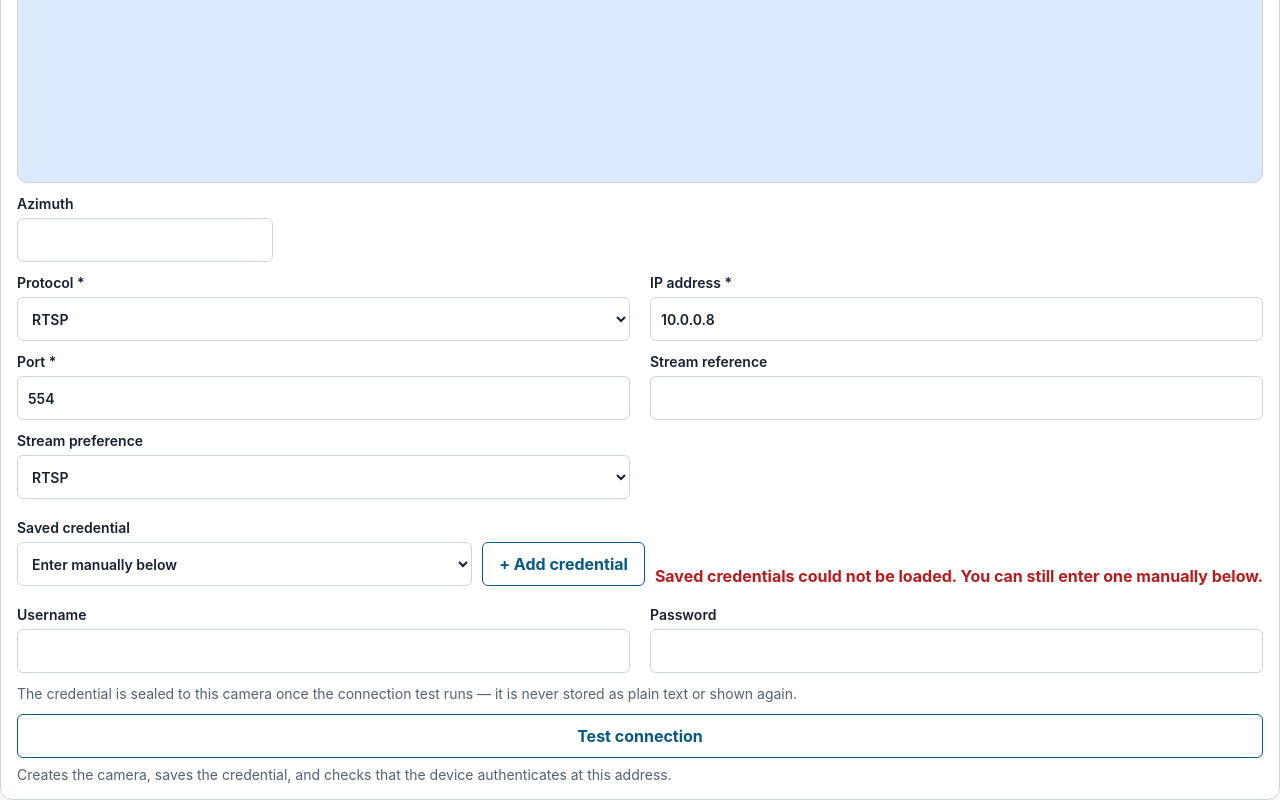
CameraForm › warns but allows the operator to proceed when the credential cannot be verified
This screenshot has width=1280, height=800.
(page scrolled)
Click the button "Test connection" at (640, 736), box [17,714,1263,758]
(page scrolled)
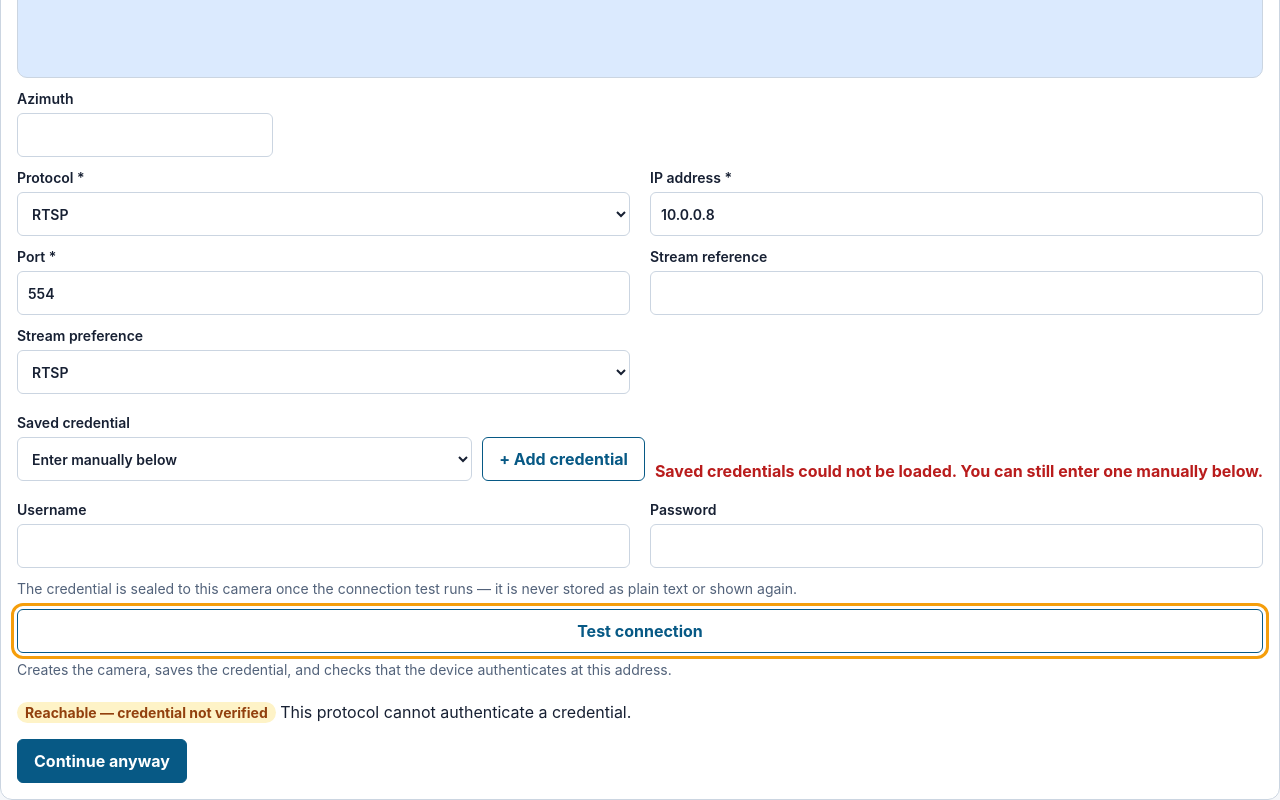
Expected: the field labelled "manufacturer" is not shown
Result: the text "Reachable — credential not verified" is shown at [17,702,276,723]
Result: the text "this protocol cannot authenticate a credential" is shown at [280,702,631,722]
Click the button "Continue anyway" at (102, 761), box [17,739,187,783]
(page scrolled)
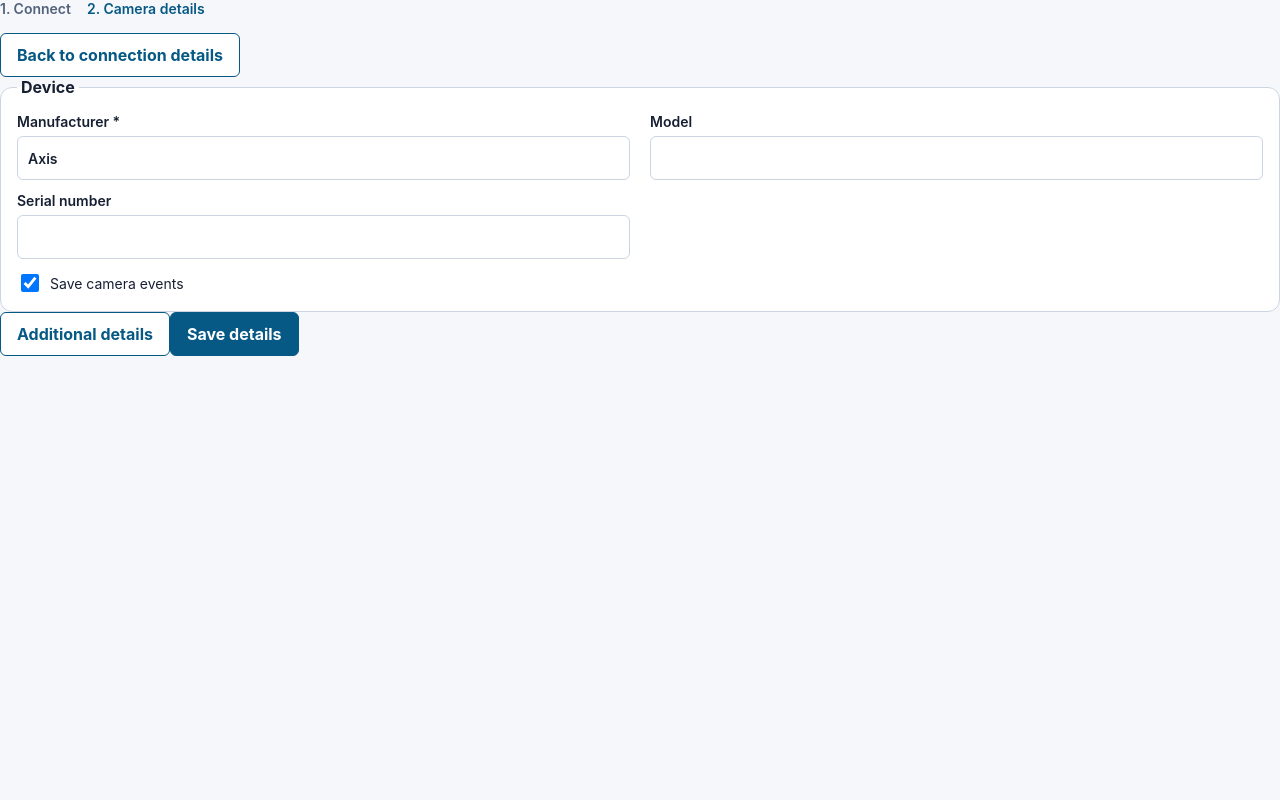
Result: the field labelled "Manufacturer *" is shown at [17,136,630,180]
